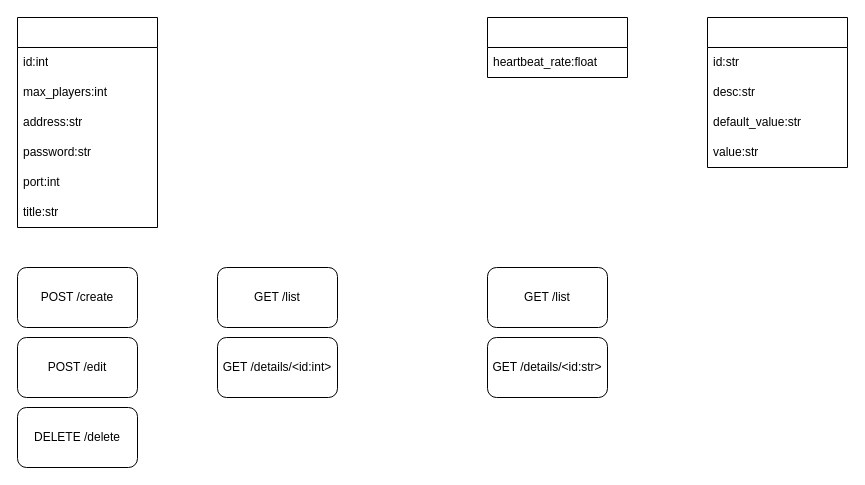
The diagram is 865 pixels wide and 485 high, and some of its shapes have lost their labels. The shapes that lost their labels are listed below. From the top down, each one's box as (x1, y1, x2, y2) in pixels, then its label:
(486, 16, 628, 78): ServerSettings [/settings]
(706, 16, 848, 168): Class ServerSetting
(16, 16, 158, 228): GameLobby [/lobbies]
